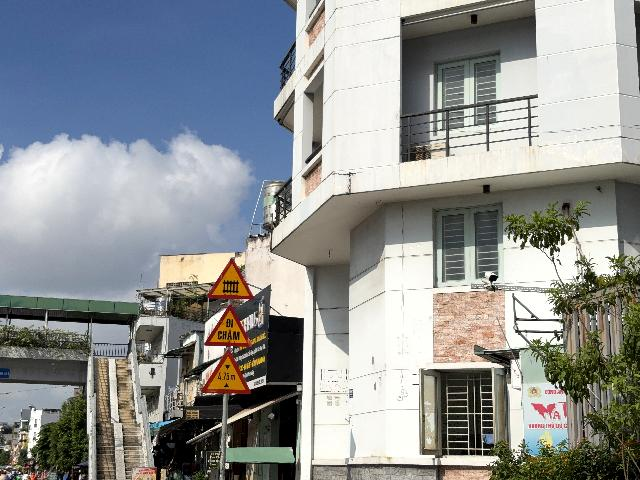chieu-cao-tinh-khong-thuc-te: (201, 349, 251, 394)
di-cham: (204, 304, 253, 347)
noi-giao-nhau-voi-duong-sat-co-rao-chan: (206, 258, 255, 299)
